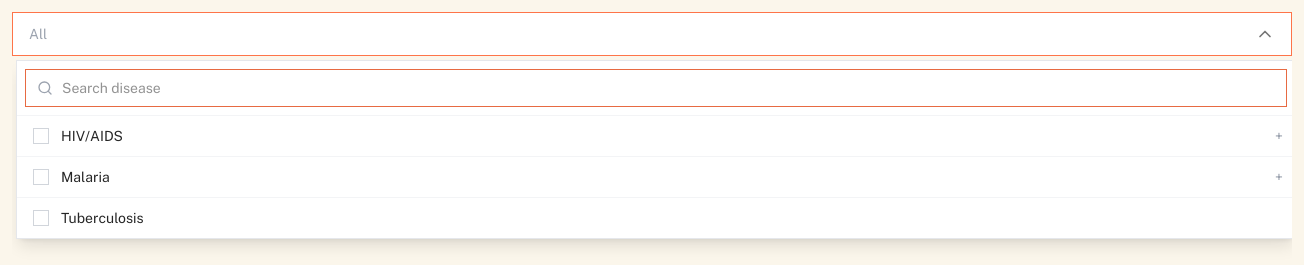
HierarchicalDiseaseFilter — search › filters parents by their own name
The image size is (1304, 265).
Type "Tuber" into the field with placeholder "Search disease" at [656, 88], box [25,69,1287,107]
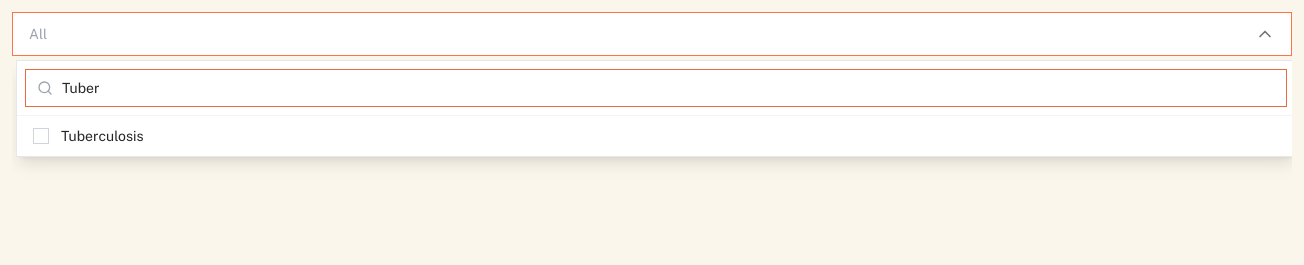
Expected: the button labelled "Malaria" is gone
